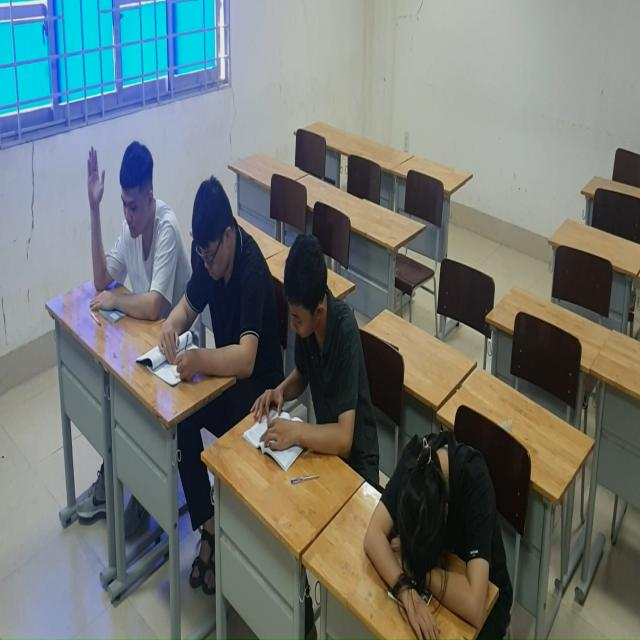raise_hand: (76, 132, 172, 326)
read: (241, 226, 378, 467), (135, 173, 267, 387)
sleep: (354, 428, 525, 630)
